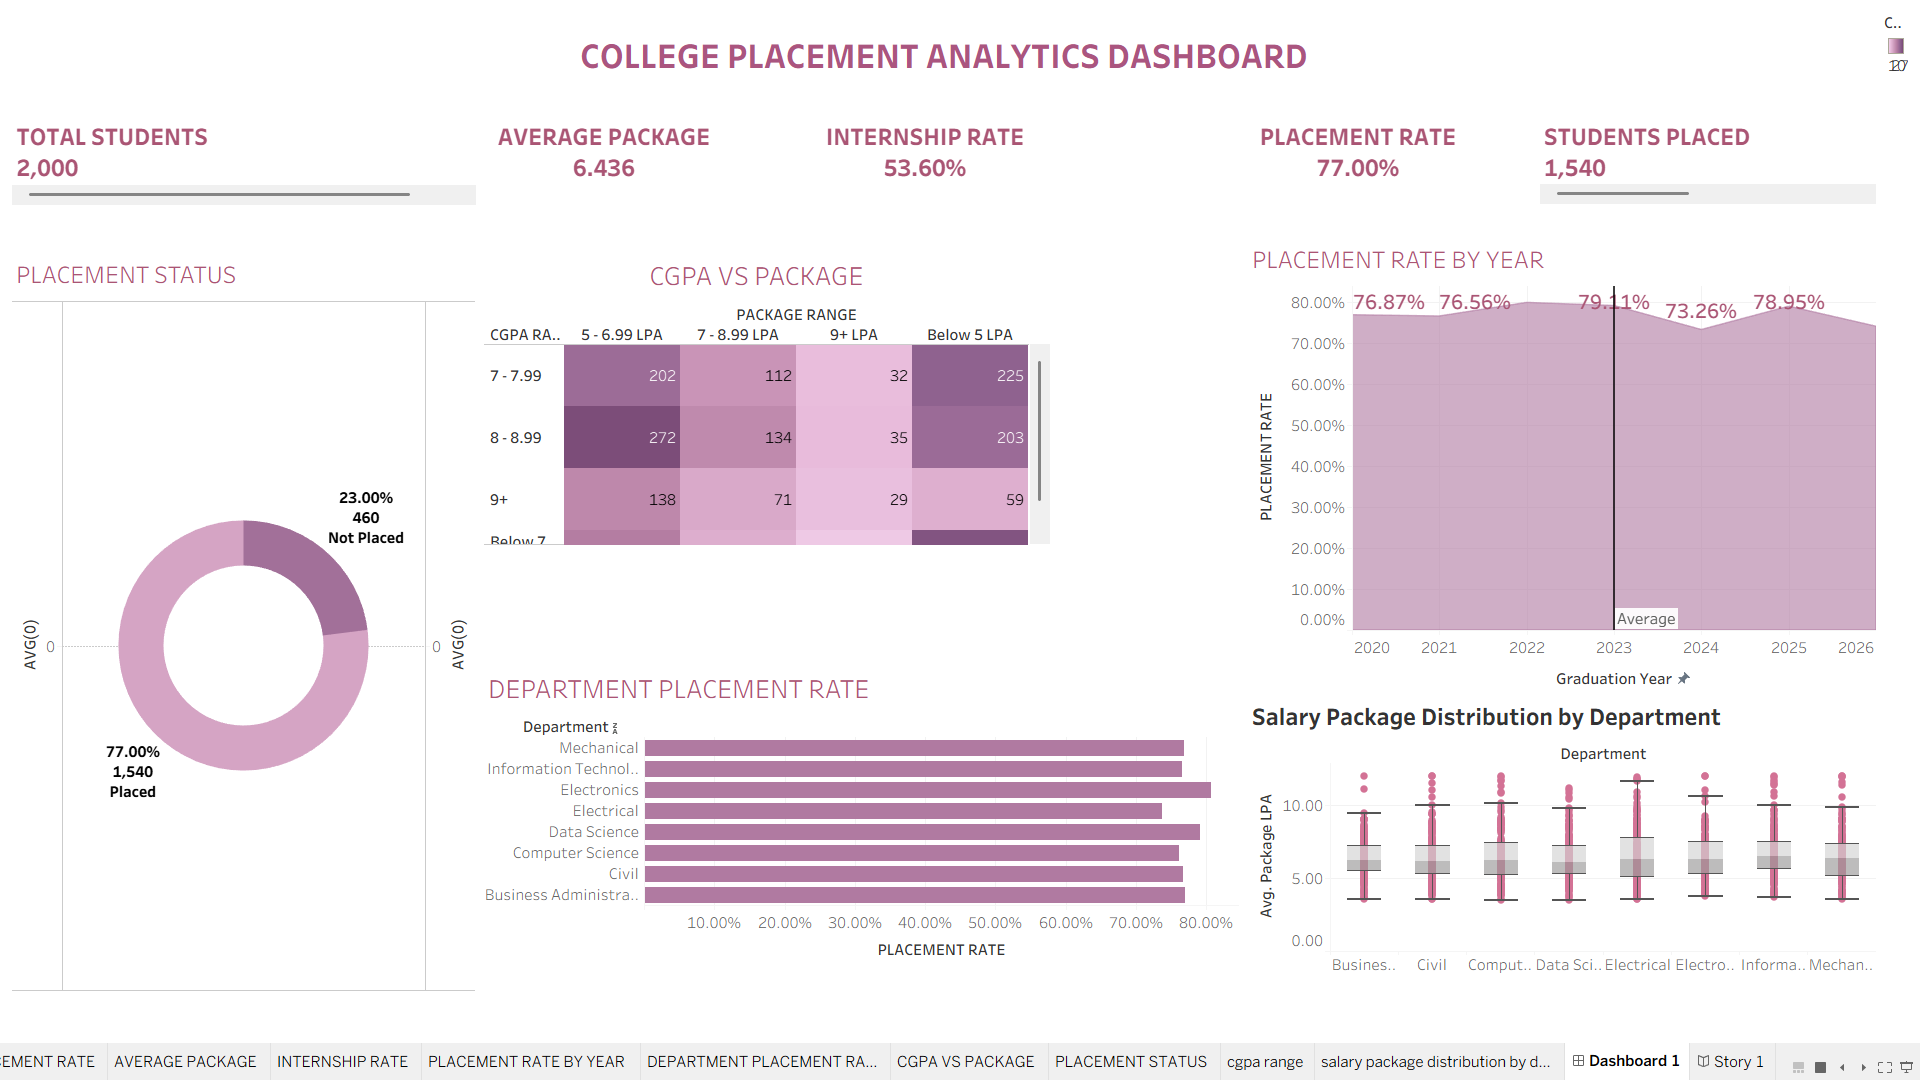

The dashboard page shown, as its layout file describes it:
{"tool":"tableau","page":{"name":"Dashboard 1","canvas":[1000,1000],"units":"permille","ordinal":0},"visuals":[{"type":"title","box":[4.8,8.7,971,101.6]},{"type":"legend","title":"CGPA VS PACKAGE","param":"[federated.0lluqk30jpvfdc1ge29y90dxn8le].[cnt:Student_ID:qk]","box":[975.9,8.7,19.3,79.8]},{"type":"worksheet","title":"TOTAL STUDENTS","mark":"Automatic","box":[4.8,110.4,245,140.7]},{"type":"worksheet","title":"AVERAGE PACKAGE","mark":"Automatic","box":[249.8,110.4,197.9,140.7]},{"type":"worksheet","title":"INTERNSHIP RATE","mark":"Automatic","box":[447.8,110.4,197.9,140.7]},{"type":"worksheet","title":"PLACEMENT RATE","mark":"Automatic","box":[645.7,110.4,151.5,126]},{"type":"worksheet","title":"STUDENTS PLACED","mark":"Automatic","box":[797.2,110.4,178.7,126]},{"type":"worksheet","title":"PLACEMENT RATE BY YEAR","mark":"Area","rows":["Calculation_1576751435706370"],"cols":["Graduation_Year"],"box":[645.7,236.3,330.1,431.2]},{"type":"worksheet","title":"PLACEMENT STATUS","mark":"Pie","rows":["Calculation_1576751472853004","Calculation_1576751472853004"],"box":[4.8,251,245,702.5]},{"type":"worksheet","title":"CGPA VS PACKAGE","mark":"Square","rows":["Calculation_1576751469367305"],"cols":["Calculation_1576751469477898"],"box":[249.8,251.1,395.9,326.8]},{"type":"worksheet","title":"DEPARTMENT PLACEMENT RATE","mark":"Automatic","rows":["Department"],"cols":["Calculation_1576751435706370"],"box":[249.8,640.1,395.9,313.5]},{"type":"worksheet","title":"salary package distribution by department","mark":"Circle","rows":["Package_LPA"],"cols":["Department"],"box":[645.7,667.6,330.1,286]}]}

Visuals, with their boxes on the dashboard's canvas, which has no fixed pixel size, in thousandths of its width and height (x1, y1, x2, y2). These are canvas units, not pixel positions in the 1920x1080 screenshot, which may show the page scaled, cropped or inside an application window:
title: BBox(5, 9, 976, 110)
"CGPA VS PACKAGE" legend: BBox(976, 9, 995, 88)
"TOTAL STUDENTS" worksheet: BBox(5, 110, 250, 251)
"AVERAGE PACKAGE" worksheet: BBox(250, 110, 448, 251)
"INTERNSHIP RATE" worksheet: BBox(448, 110, 646, 251)
"PLACEMENT RATE" worksheet: BBox(646, 110, 797, 236)
"STUDENTS PLACED" worksheet: BBox(797, 110, 976, 236)
"PLACEMENT RATE BY YEAR" worksheet (Area marks): BBox(646, 236, 976, 668)
"PLACEMENT STATUS" worksheet (Pie marks): BBox(5, 251, 250, 954)
"CGPA VS PACKAGE" worksheet (Square marks): BBox(250, 251, 646, 578)
"DEPARTMENT PLACEMENT RATE" worksheet: BBox(250, 640, 646, 954)
"salary package distribution by department" worksheet (Circle marks): BBox(646, 668, 976, 954)
